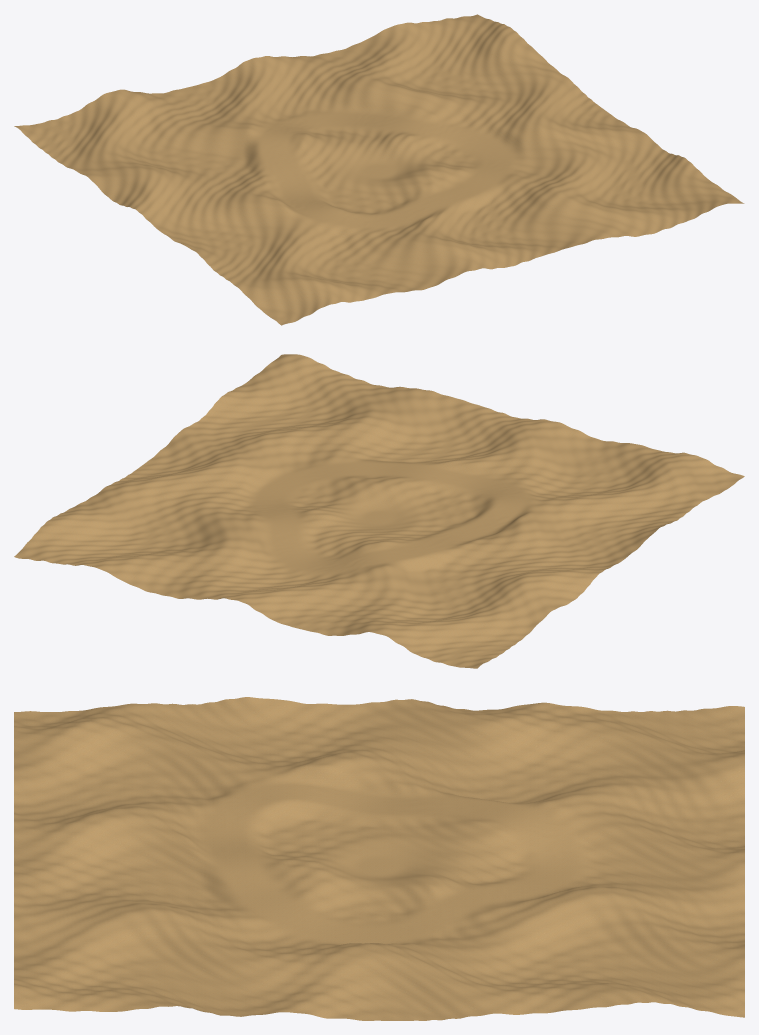
File: dunes_loop.obj
The picture shows the model from 3 angles, top to bottom: view 1: azimuth 30°, elevation 25°; view 2: azimuth 150°, elevation 25°; view 3: azimuth 270°, elevation 25°; orthographic projection. The views are drawn at different scales.
Parts seen in each view (by area): view 1: dunes_loop; view 2: dunes_loop; view 3: dunes_loop.
Boxes of the visible parts, x1,y1,x2,y2 form: dunes_loop: (14, 14, 744, 325); dunes_loop: (14, 354, 744, 668); dunes_loop: (14, 697, 744, 1020).
Size of the model in its own units: 180 by 5.61 by 180.
Materials: 1 (1 with a texture image).
